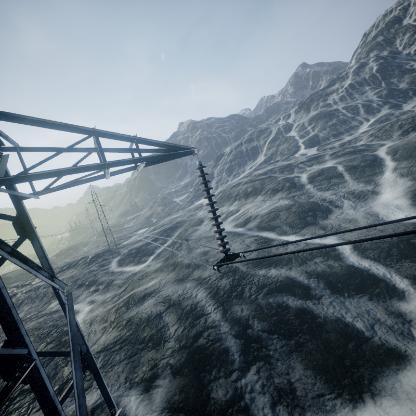insulator: (194, 159, 231, 259)
tower: (84, 184, 124, 259)
